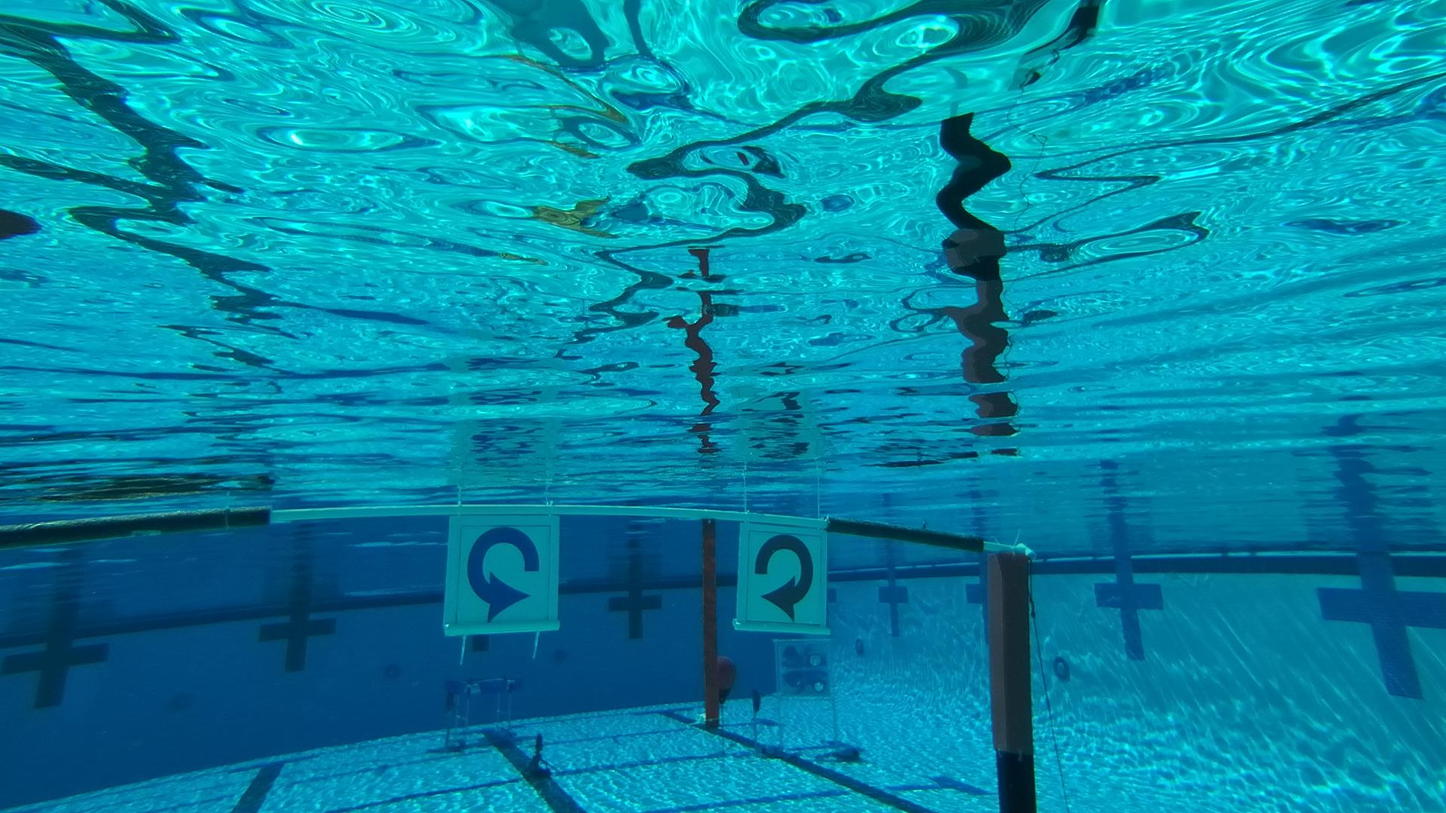blue-gate-sign: (439, 510, 562, 640)
buoy: (715, 655, 736, 704)
coral-box-side: (442, 674, 524, 745)
red octagon: (785, 669, 802, 685), (810, 679, 826, 695), (809, 655, 823, 668), (787, 643, 797, 658)
red-gate-sign: (739, 518, 824, 630)
